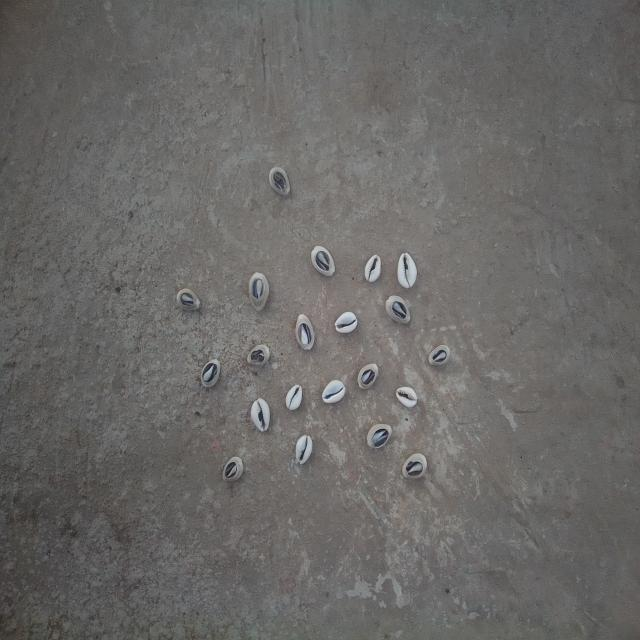facedown: (247, 269, 271, 313), (265, 164, 294, 199), (310, 242, 337, 278), (384, 295, 413, 326), (364, 421, 394, 450), (401, 449, 428, 481), (294, 313, 316, 352), (200, 354, 223, 390), (221, 453, 245, 485), (245, 342, 271, 370), (356, 360, 380, 390), (175, 286, 202, 312), (426, 341, 451, 369)
faceup: (246, 397, 272, 435), (396, 250, 419, 290), (321, 378, 347, 408), (294, 432, 314, 468), (395, 384, 420, 412), (334, 310, 359, 336), (363, 252, 383, 284), (284, 382, 304, 412)
